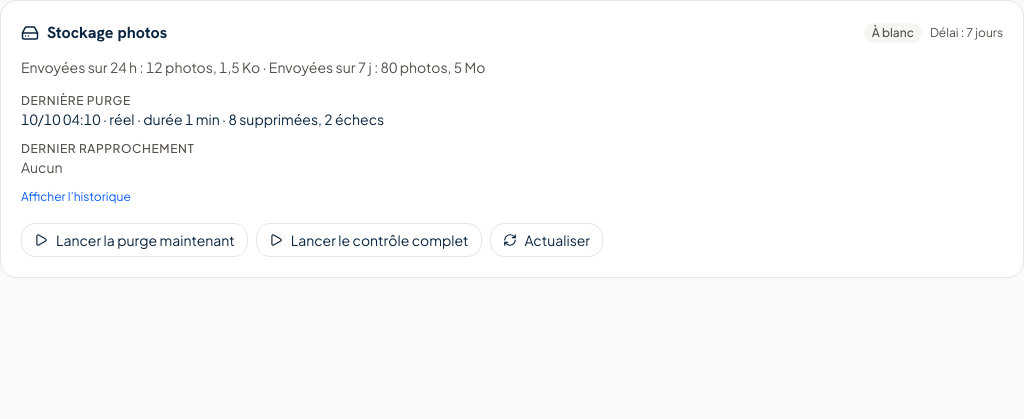
Test: PhotoStorageCard › l'historique se replie et se déplie avec 5 passages au plus
The image size is (1024, 419).
Click the button with test id "history-toggle": (76, 197) [21,189,131,205]
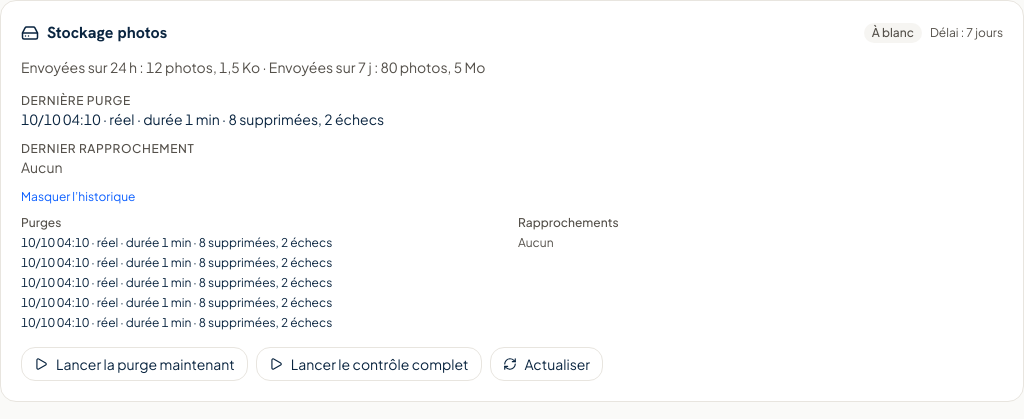
Check: the number of list items with test id "history-purge" is 5, box [21,235,332,250]; [21,255,332,270]; [21,275,332,290]; [21,295,332,310]; [21,315,332,330]
